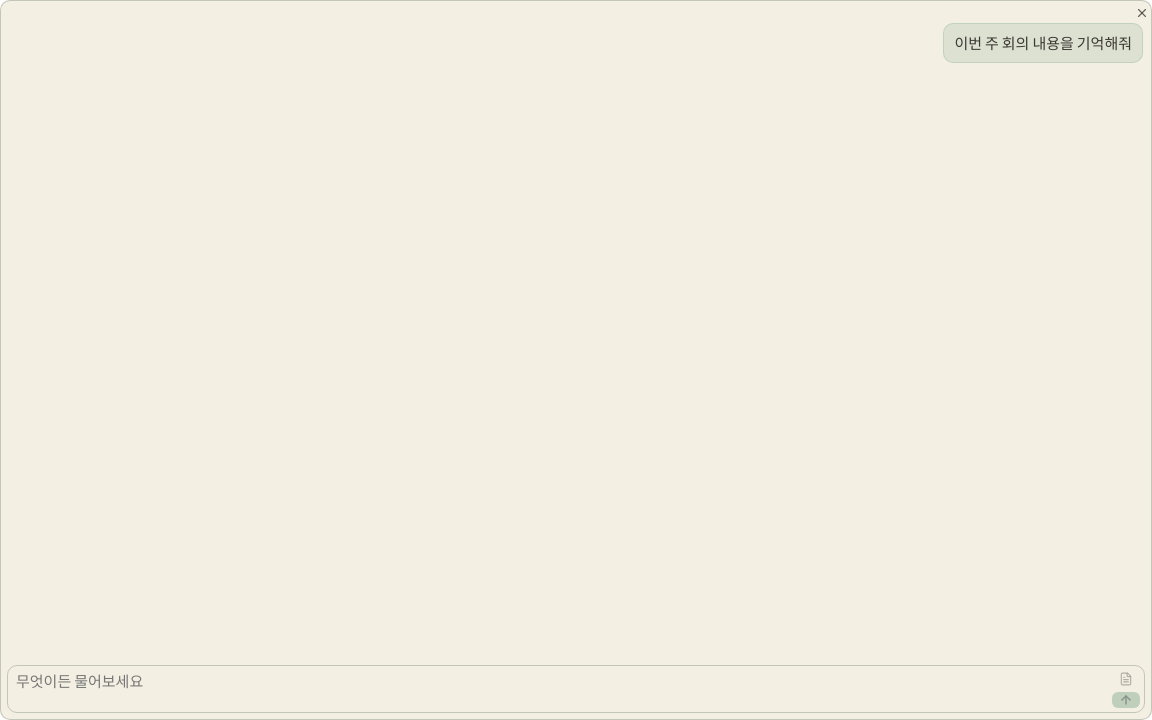
it: PetChat — conversation close prompt › asks whether to save a non-empty conversation before closing
The width and height of the screenshot is (1152, 720).
Click the button named "닫기": {"x": 1138, "y": 14} 1129,5 -> 1147,23
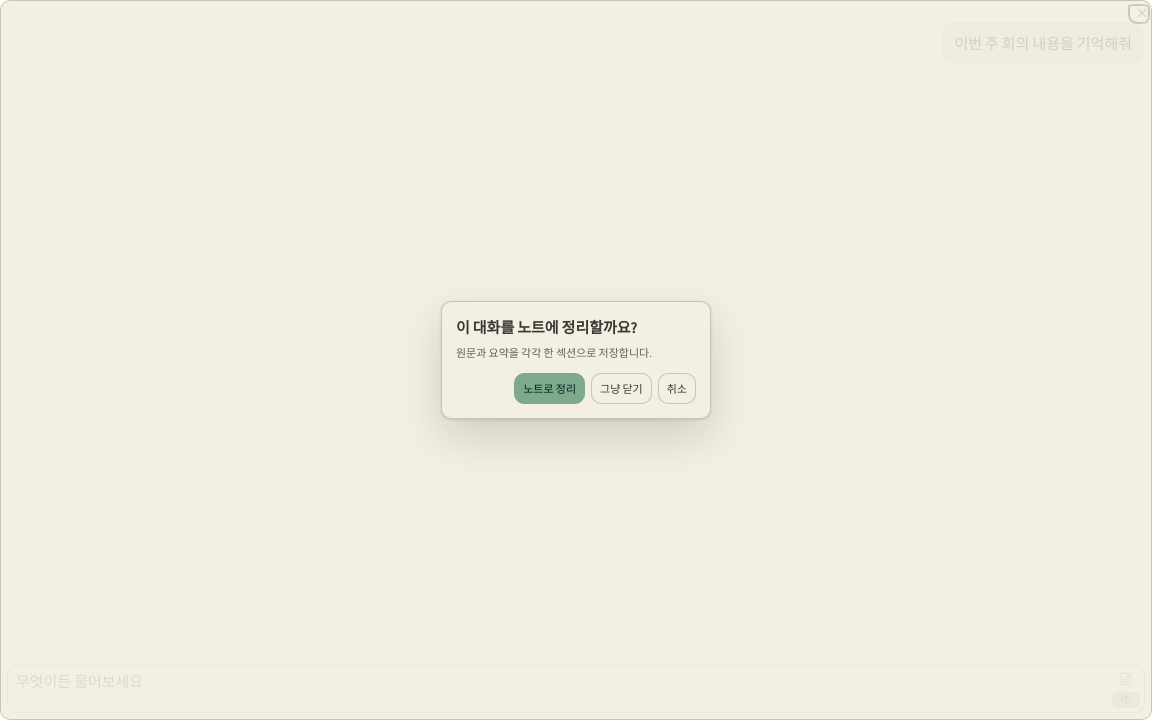
Expected: the dialog shows "이 대화를 노트에 정리할까요?", 456,318 -> 637,338
